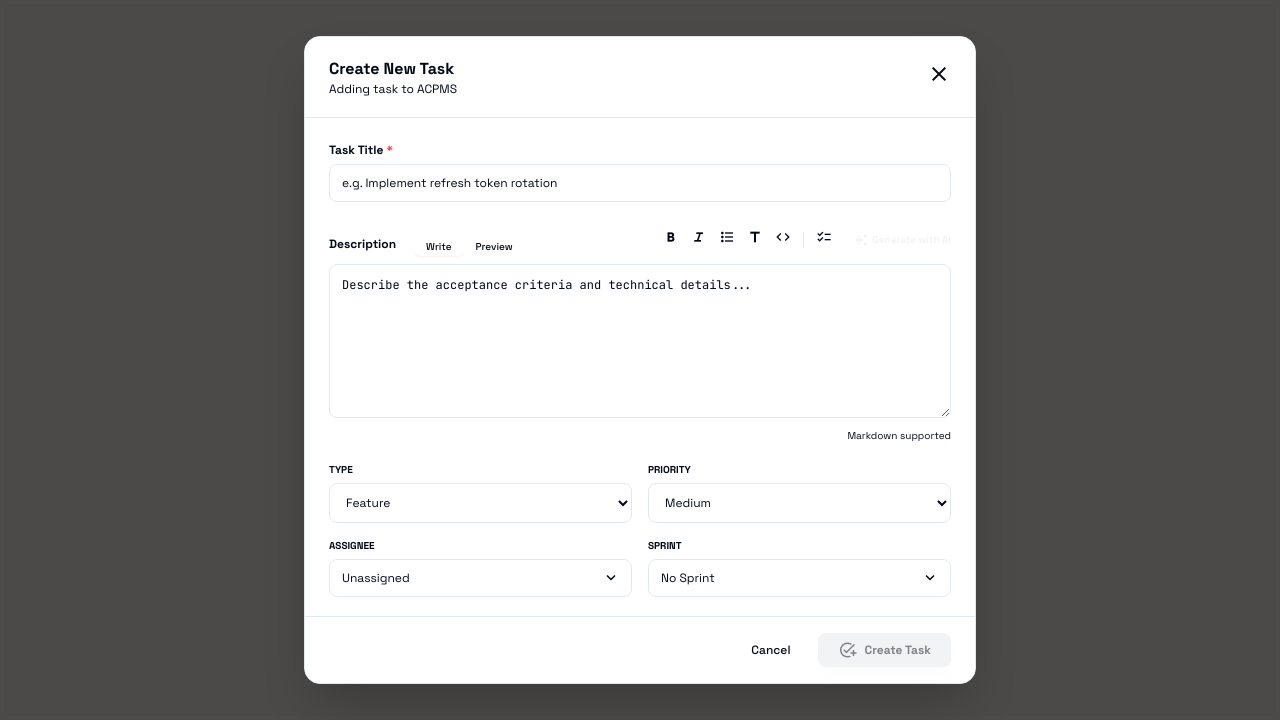
Test: CreateTaskModal repository access guard › shows setup-required dialog and blocks task creation when source control is not configured
In the field with placeholder "e.g. Implement refresh token rotation": (640, 183) [329,164,951,202], type "Ship guarded task creation"
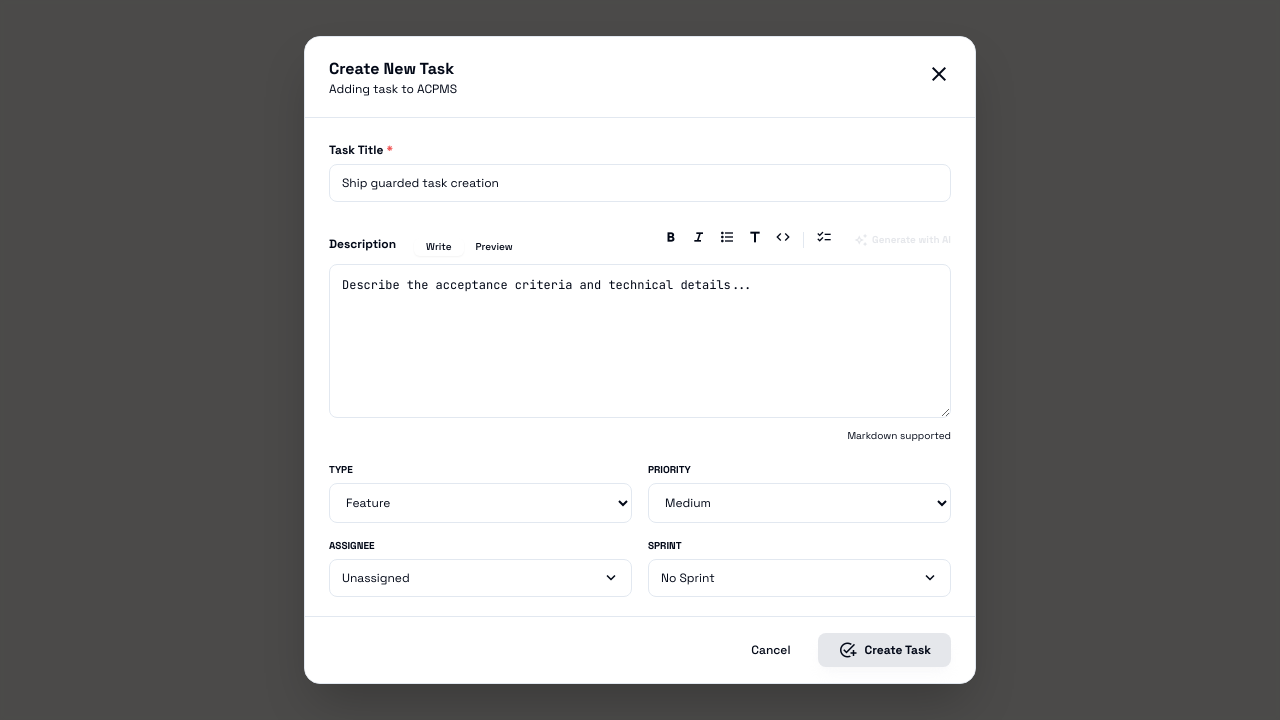
Click the button "Create Task": click(885, 650) [818,633,951,667]
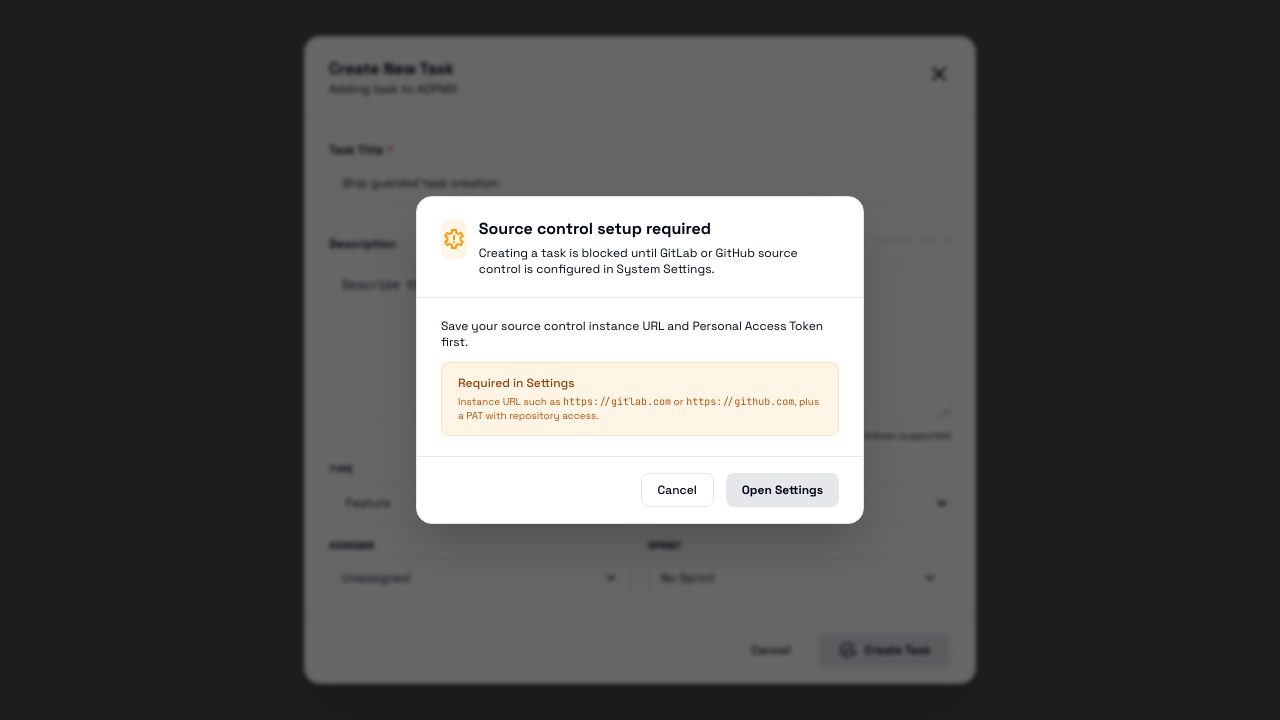
Check: the heading "Source control setup required" is shown, box [479,218,711,239]
